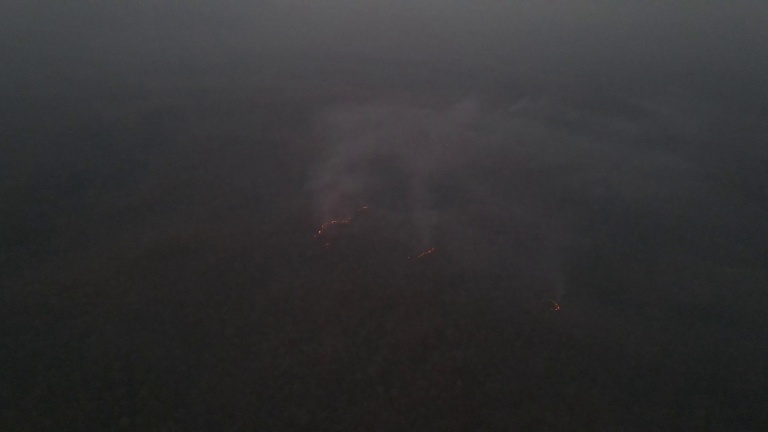fire: (314, 213, 353, 252), (404, 242, 441, 260), (354, 201, 375, 214), (547, 300, 562, 313)
smoke: (302, 100, 527, 247)
